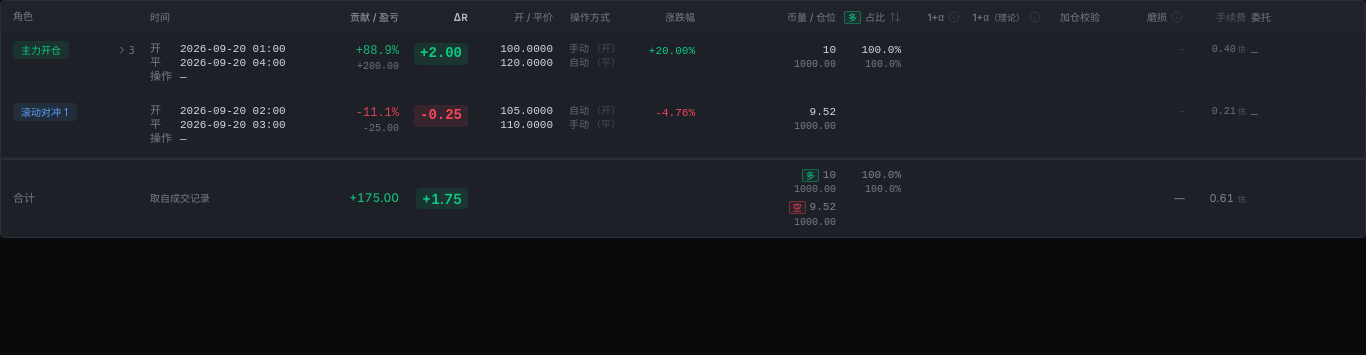
Scenario: Legs 开平操作方式 › adds one quiet two-line column after exit price without misaligning phases or totals
Expected: the element with test id "leg-execution-method-hedge" reads "自动 （开） 手动 （平）", [569, 106, 621, 131]
Expected: the element with test id "leg-frozen-role-hedge" reads "滚动对冲 1", [21, 105, 69, 119]
Click the button with test id "leg-phases-toggle-main" at (127, 50), box [113, 41, 141, 59]
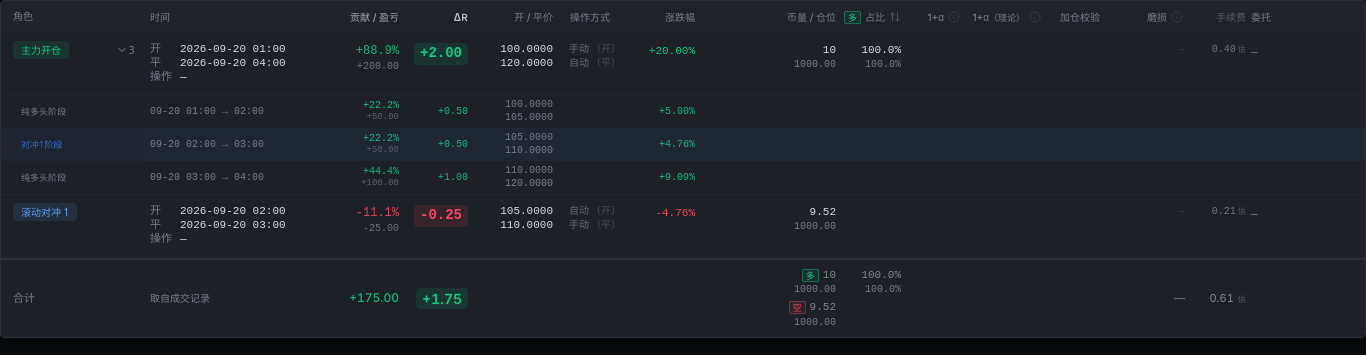
Now the element with test id "leg-phases-main" shows "对冲1阶段", box [21, 138, 62, 151]
